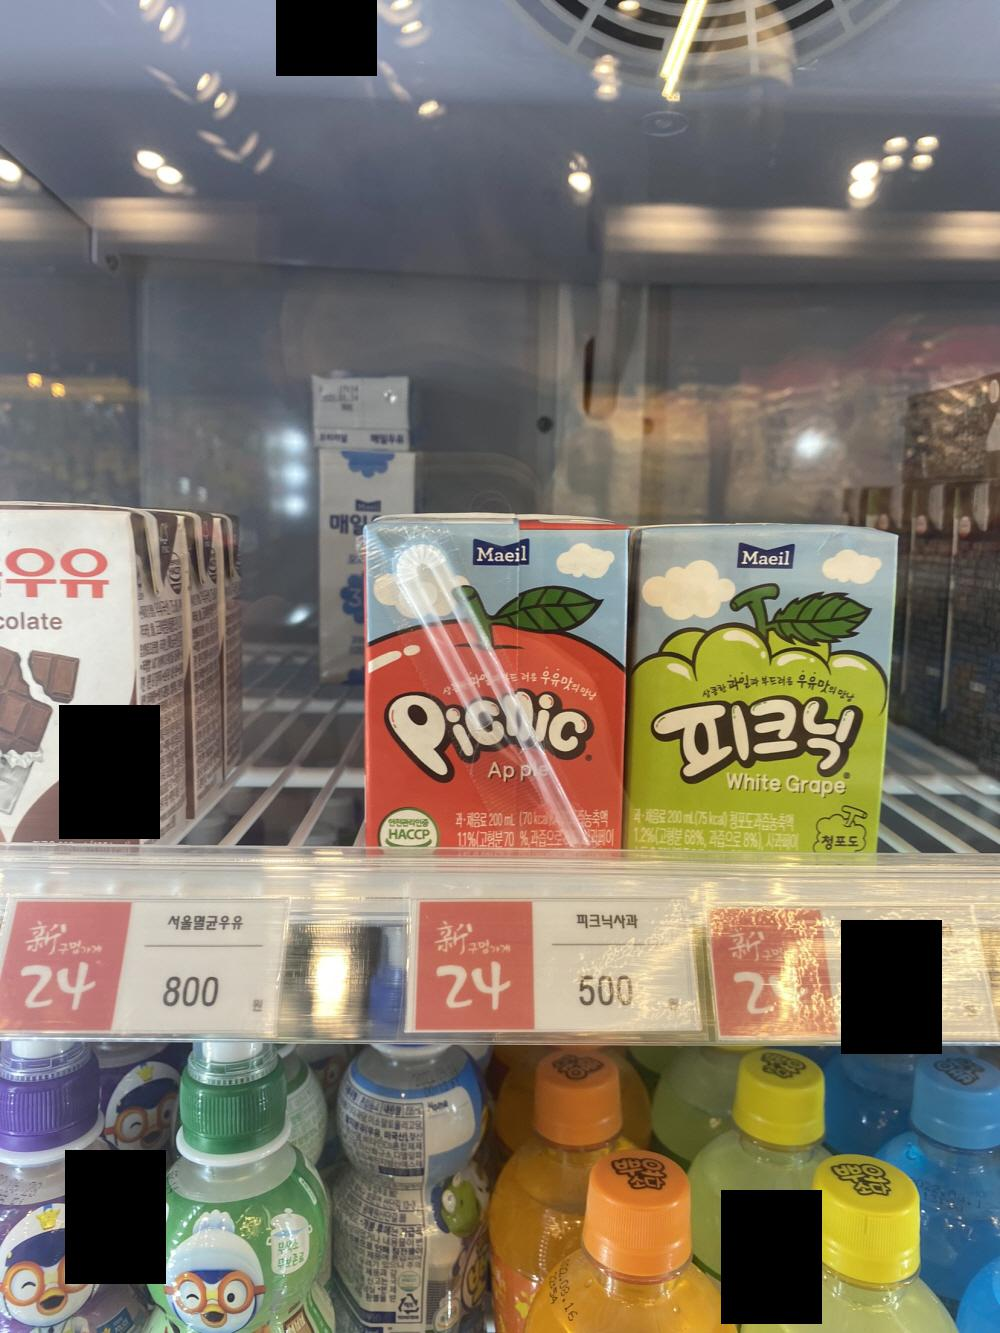picnic_apple: (351, 504, 627, 854)
